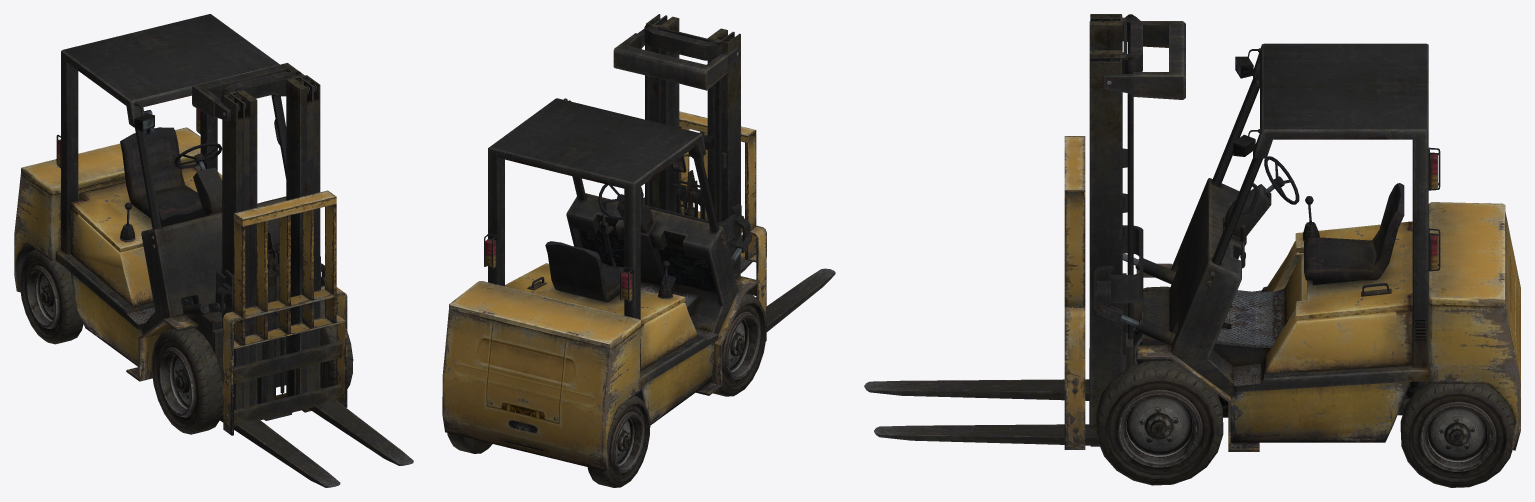
Rendered from forklift.fbx.
3 views of the same model, side by side, from view 1: azimuth 30°, elevation 25°; view 2: azimuth 150°, elevation 25°; view 3: azimuth 270°, elevation 25° (orthographic). The views are drawn at different scales.
Parts seen in each view (by area): view 1: body, lift_4, lift_1, lift_3, fr_tire, rr_tire, lift_2, left_teeth, right_teeth, fl_tire; view 2: body, lift_1, lift_4, fr_tire, rr_tire, lift_3, lift_2, left_teeth, rl_tire; view 3: body, lift_1, fl_tire, rl_tire, lift_4, left_teeth, right_teeth, lift_3, lift_2.
Part boxes in pixels (x1=…): body: x1=14, y1=14, x2=324, y2=381; lift_4: x1=223, y1=190, x2=347, y2=435; lift_1: x1=192, y1=63, x2=324, y2=420; lift_3: x1=234, y1=77, x2=306, y2=412; fr_tire: x1=151, y1=327, x2=222, y2=434; rr_tire: x1=19, y1=249, x2=83, y2=344; lift_2: x1=221, y1=72, x2=313, y2=411; left_teeth: x1=212, y1=328, x2=340, y2=487; right_teeth: x1=309, y1=388, x2=413, y2=465; fl_tire: x1=320, y1=299, x2=353, y2=388; body: x1=442, y1=98, x2=759, y2=471; lift_1: x1=613, y1=14, x2=751, y2=277; lift_4: x1=679, y1=111, x2=766, y2=340; fr_tire: x1=713, y1=293, x2=766, y2=396; rr_tire: x1=587, y1=395, x2=650, y2=487; lift_3: x1=657, y1=16, x2=727, y2=219; lift_2: x1=644, y1=15, x2=734, y2=219; left_teeth: x1=734, y1=268, x2=835, y2=331; rl_tire: x1=447, y1=433, x2=492, y2=453; body: x1=1135, y1=43, x2=1520, y2=451; lift_1: x1=1089, y1=14, x2=1185, y2=446; fl_tire: x1=1096, y1=360, x2=1223, y2=485; rl_tire: x1=1400, y1=382, x2=1514, y2=487; lift_4: x1=1064, y1=136, x2=1085, y2=449; left_teeth: x1=864, y1=303, x2=1127, y2=400; right_teeth: x1=874, y1=332, x2=1133, y2=445; lift_3: x1=1089, y1=20, x2=1126, y2=424; lift_2: x1=1090, y1=15, x2=1142, y2=428.
Bounding box in the file's own units: 50.9 × 145 × 98.75.
3 materials, 3 textured.
